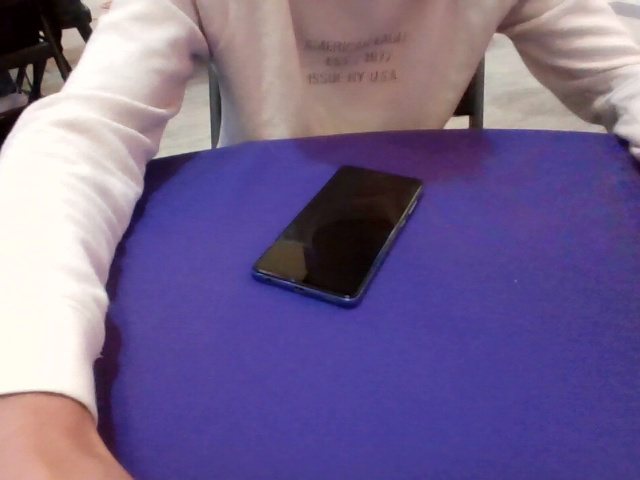celular: (250, 164, 425, 308)
